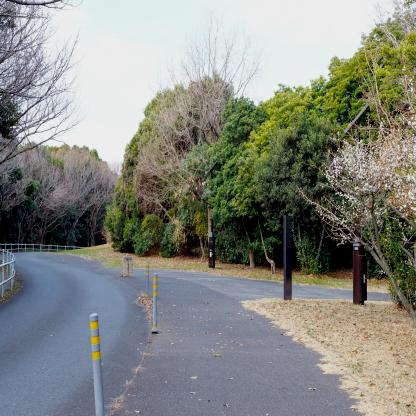Ume: (296, 38, 416, 317)
